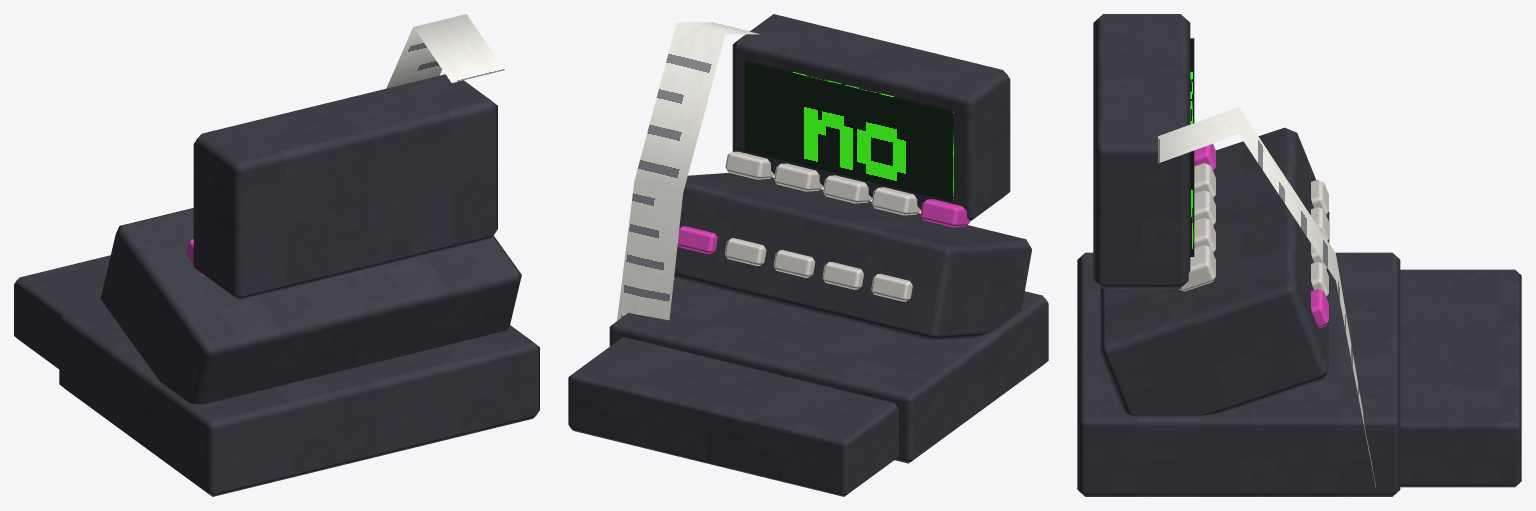
Rendered from s_till.glb.
The picture shows the model from 3 angles, left to right: view 1: azimuth 30°, elevation 25°; view 2: azimuth 150°, elevation 25°; view 3: azimuth 270°, elevation 25°; orthographic projection. The views are drawn at different scales.
Parts seen in each view (by area): view 1: s_till_mesh; view 2: s_till_mesh; view 3: s_till_mesh.
Boxes of the visible parts, x1,y1,x2,y2 form: s_till_mesh: (14,14,539,496); s_till_mesh: (568,14,1048,496); s_till_mesh: (1077,14,1521,496).
Size of what is drawn, in the model's own units: 0.51 by 0.5 by 0.55.
Materials: 7 (7 with a texture image).
